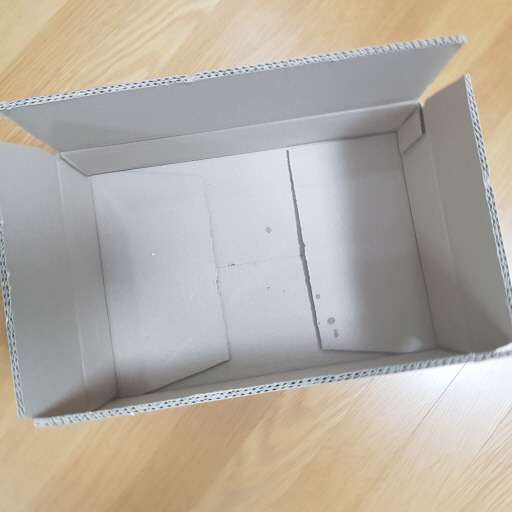Paper_0: (5, 36, 512, 432)
